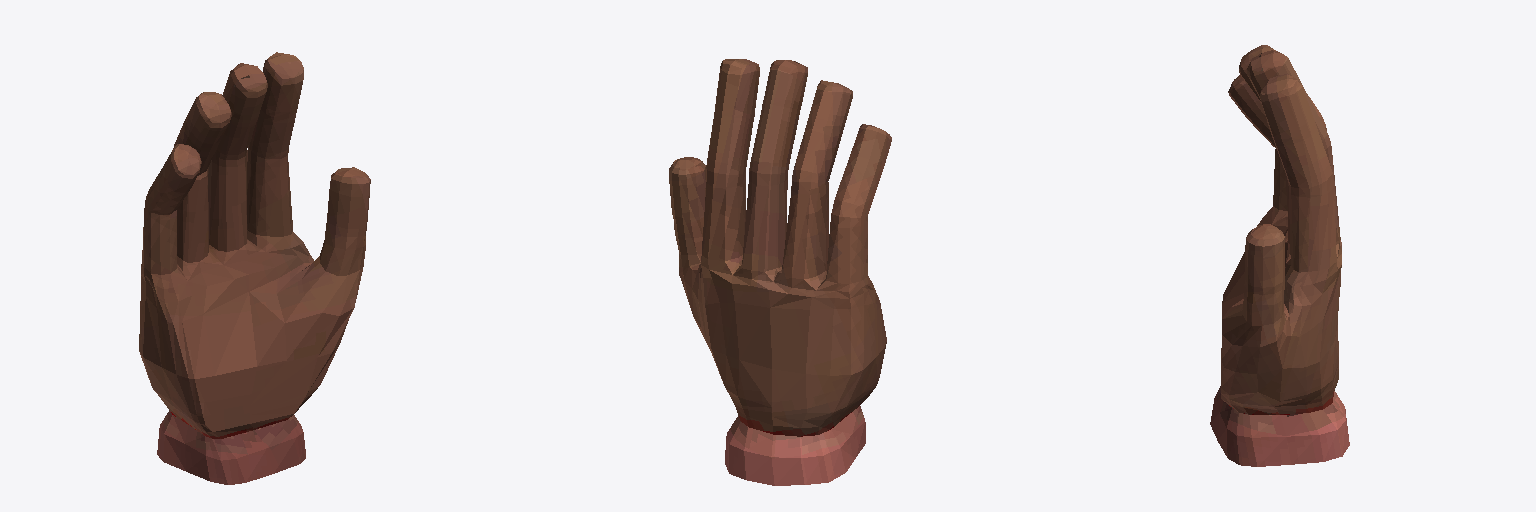
3 renders of one model, left to right at view 1: azimuth 30°, elevation 25°; view 2: azimuth 150°, elevation 25°; view 3: azimuth 270°, elevation 25°, orthographic.
Visible parts, largest first — view 1: Right_Hand_Untitled.002; view 2: Right_Hand_Untitled.002; view 3: Right_Hand_Untitled.002.
Part boxes in pixels (bbox=[...]): Right_Hand_Untitled.002: bbox=[139, 52, 370, 484]; Right_Hand_Untitled.002: bbox=[669, 59, 891, 485]; Right_Hand_Untitled.002: bbox=[1210, 45, 1349, 466].
Size of the model in its own units: 0.2643 by 0.4767 by 0.1535.
Materials: 1 (1 with a texture image).